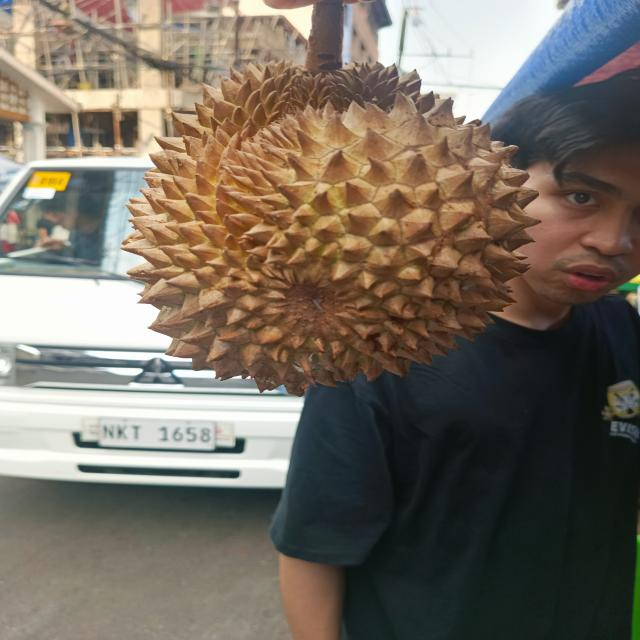mature: (118, 52, 535, 392)
